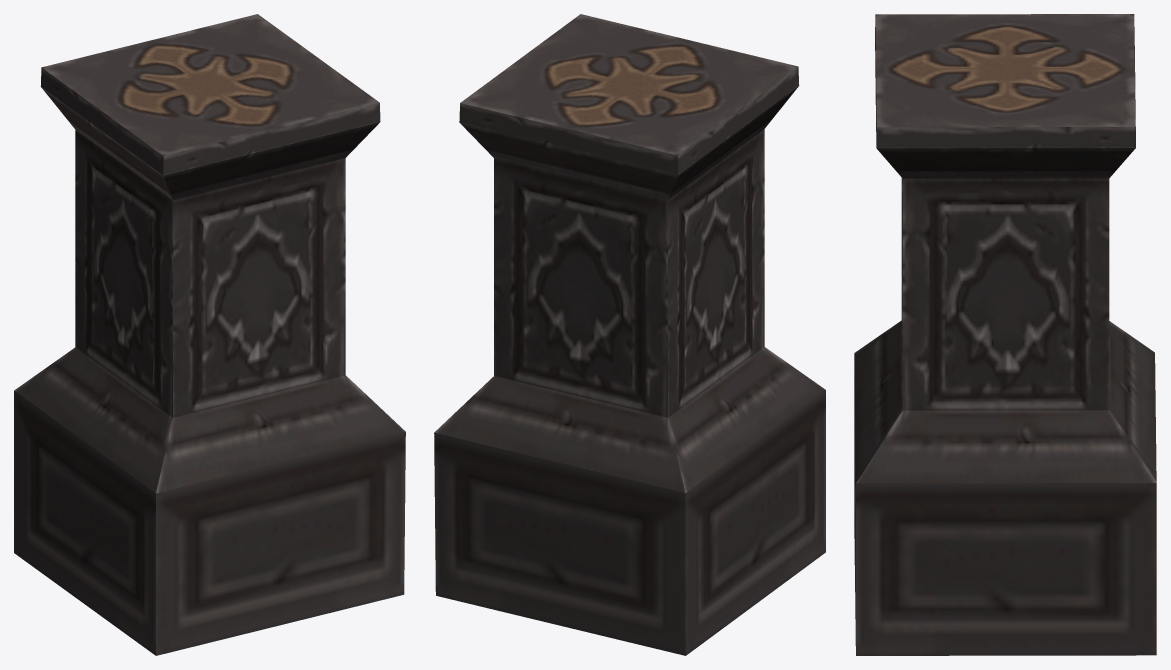
The model's file is sn_jingyanFB_wujian01_zhuzi03.FBX.
3 renders of one model, left to right at view 1: azimuth 30°, elevation 25°; view 2: azimuth 150°, elevation 25°; view 3: azimuth 270°, elevation 25°, orthographic. The views are drawn at different scales.
Visible parts, largest first — view 1: sn_jingyanFB_wujian01_zhuzi03; view 2: sn_jingyanFB_wujian01_zhuzi03; view 3: sn_jingyanFB_wujian01_zhuzi03.
Boxes of the visible parts, x1,y1,x2,y2 form: sn_jingyanFB_wujian01_zhuzi03: (14,14,405,655); sn_jingyanFB_wujian01_zhuzi03: (434,14,825,655); sn_jingyanFB_wujian01_zhuzi03: (854,14,1156,655).
Size of the model in its own units: 443 by 432 by 822.
